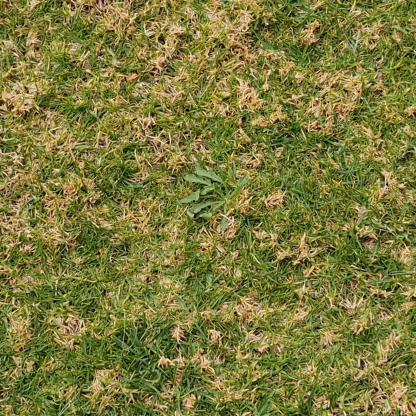Weeds: (179, 166, 248, 230)
